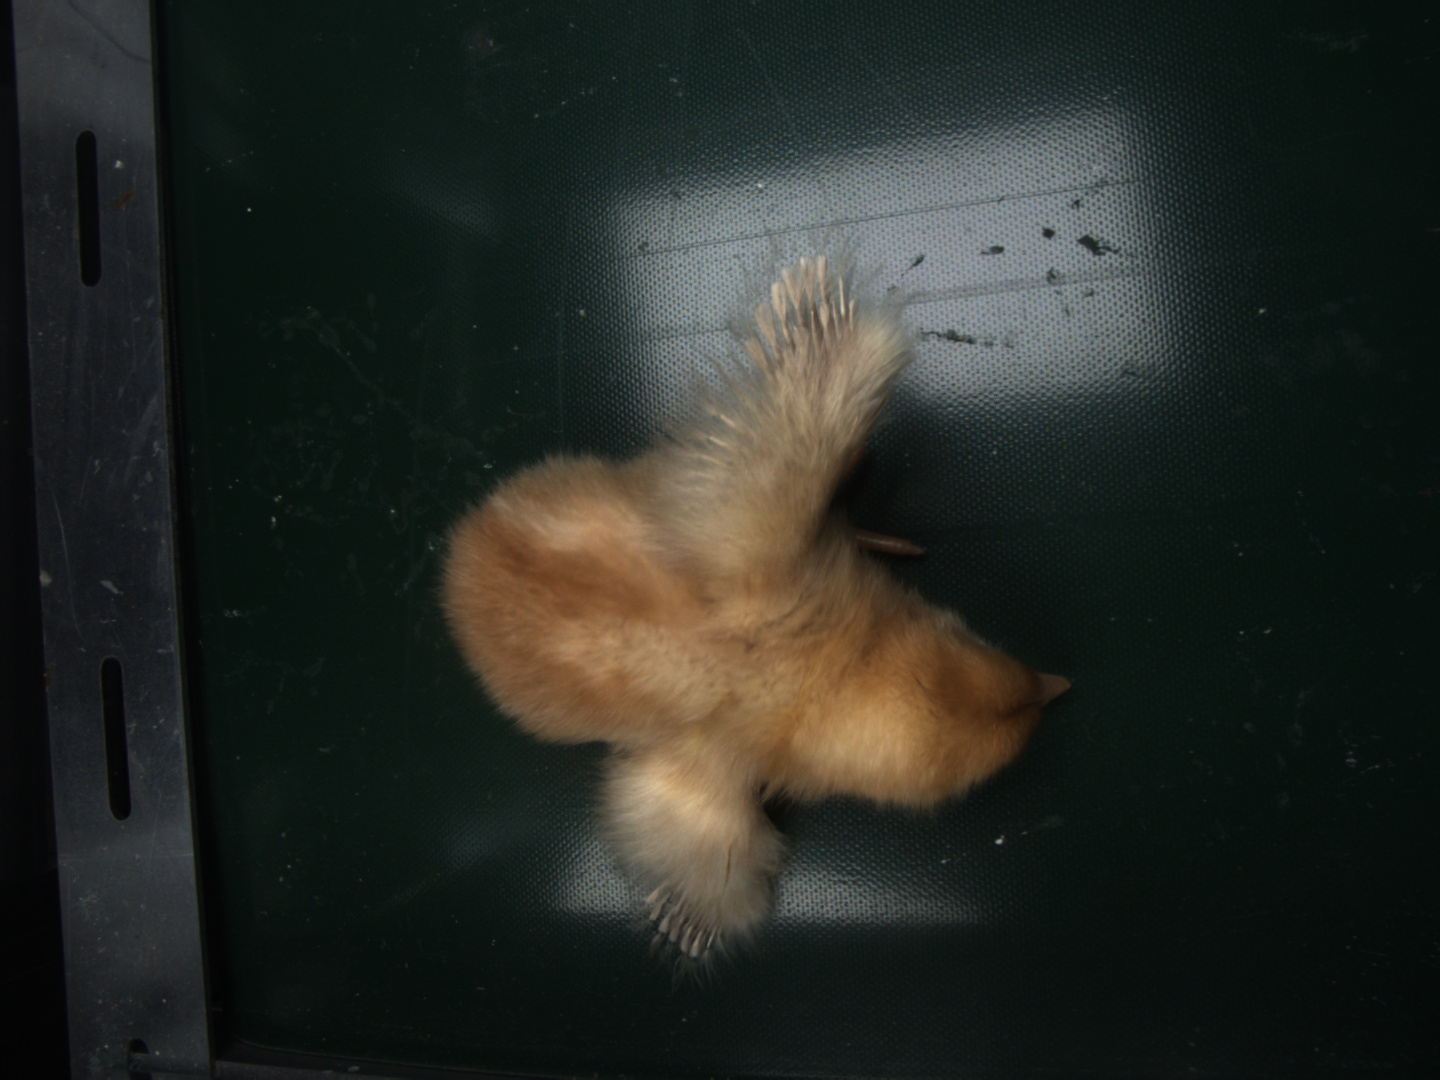female: (747, 260, 863, 383)
